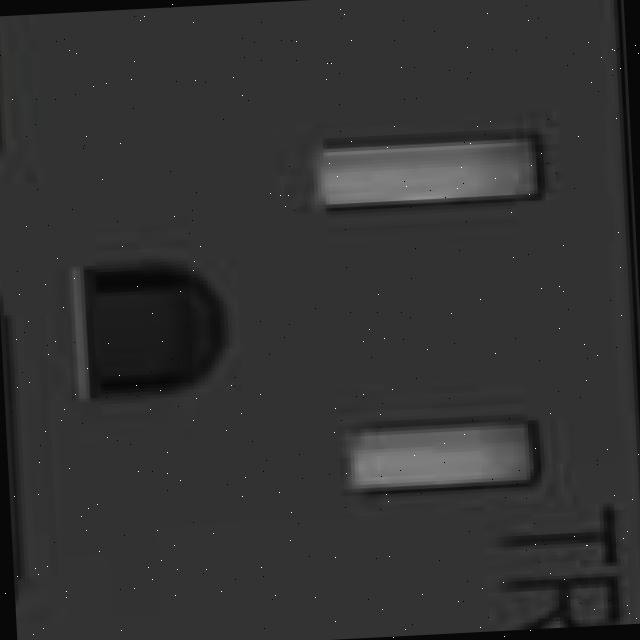type_b: (8, 3, 637, 638)
